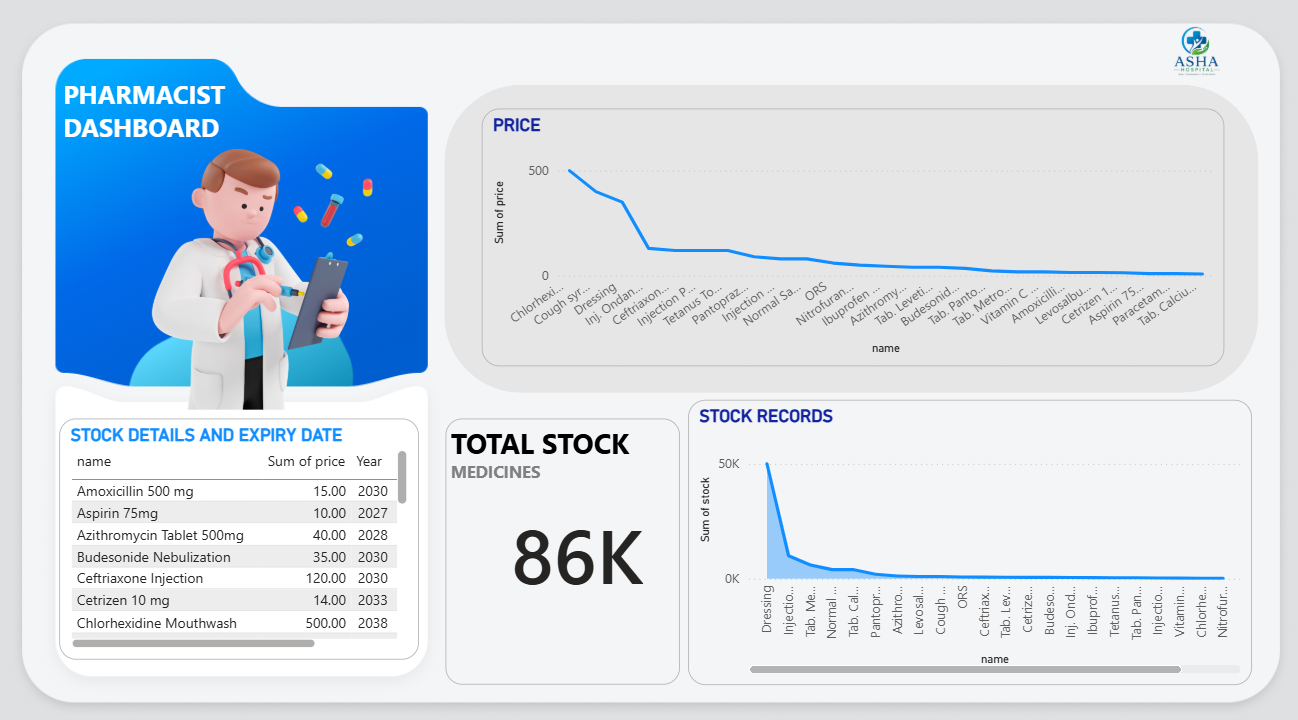

The page's visual inventory and layout, read from the dashboard file:
{"tool":"powerbi","page":{"name":"Page 1","canvas":[1280,720],"ordinal":0},"visuals":[{"type":"image","box":[38.3,136.2,466.9,264.8],"z":0},{"type":"image","box":[1102.3,26,121.2,64.9],"z":1000},{"type":"textbox","box":[71.9,77.9,190.6,79.1],"z":2000},{"type":"shape","box":[442.4,90.3,780.7,295.4],"z":3001},{"type":"areaChart","title":"STOCK RECORDS","fields":{"Category":["computer_ak_hospital medicines.name"],"Y":["Sum(computer_ak_hospital medicines.stock)"]},"box":[676,391.9,540.5,273.3],"z":3002},{"type":"lineChart","title":"PRICE ","fields":{"Category":["computer_ak_hospital medicines.name"],"Y":["Sum(computer_ak_hospital medicines.price)"]},"box":[478.2,112.7,711.9,246.9],"z":3003},{"type":"cardVisual","title":"TOTAL STOCK","fields":{"Data":["Sum(computer_ak_hospital medicines.stock)"]},"box":[442.9,409.7,225.1,255.4],"z":3004},{"type":"textbox","box":[442.9,409.7,232.3,69.3],"z":3005},{"type":"textbox","box":[442.9,444.4,173.1,47.6],"z":3006},{"type":"tableEx","title":"STOCK DETAILS AND EXPIRY DATE","fields":{"Values":["computer_ak_hospital medicines.name","Sum(computer_ak_hospital medicines.price)","computer_ak_hospital medicines.expiry_date.Variation.Date Hierarchy.Year","computer_ak_hospital medicines.expiry_date.Variation.Date Hierarchy.Month","computer_ak_hospital medicines.expiry_date.Variation.Date Hierarchy.Day"]},"box":[73.5,410.2,344.4,231.1],"z":3007}]}

Visuals, with their boxes in screenshot pixels (x1, y1, x2, y2), scaled from the page's 1280x720 canvas onto the 1298x720 screenshot:
image: 39/136/512/401
image: 1118/26/1241/91
textbox: 73/78/266/157
shape: 449/90/1240/386
"STOCK RECORDS" areaChart: 686/392/1234/665
"PRICE " lineChart: 485/113/1207/360
"TOTAL STOCK" cardVisual: 449/410/677/665
textbox: 449/410/685/479
textbox: 449/444/625/492
"STOCK DETAILS AND EXPIRY DATE" tableEx: 75/410/424/641
